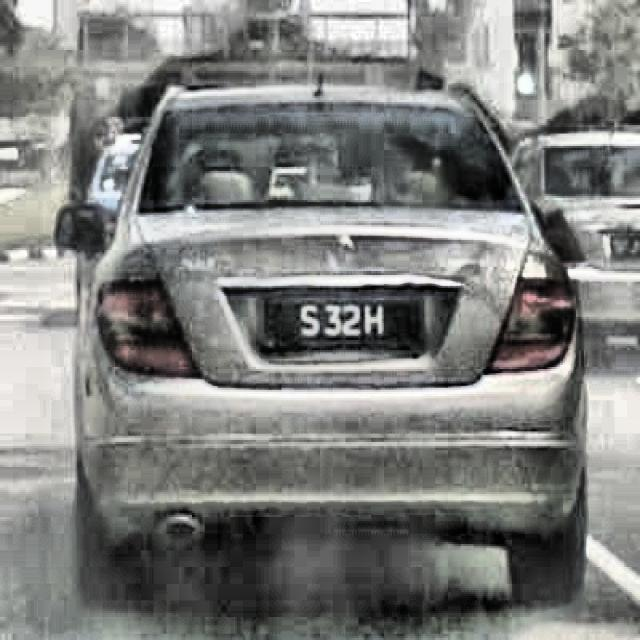license_plate: (266, 298, 422, 348)
